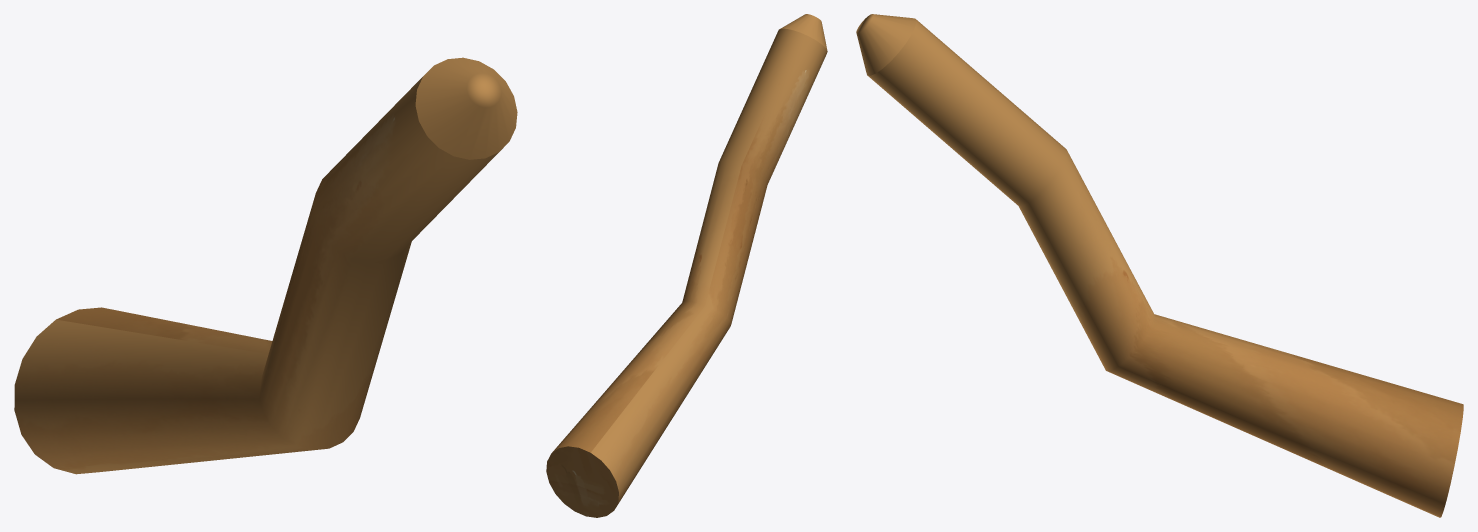
Rendered from Branch2.fbx.
3 views of the same model, side by side, from view 1: azimuth 30°, elevation 25°; view 2: azimuth 150°, elevation 25°; view 3: azimuth 270°, elevation 25° (orthographic). The views are drawn at different scales.
Parts seen in each view (by area): view 1: pCylinder5; view 2: pCylinder5; view 3: pCylinder5.
Boxes of the visible parts, left/top/right/bottom form: pCylinder5: left=14, top=57, right=517, bottom=474; pCylinder5: left=546, top=14, right=827, bottom=517; pCylinder5: left=856, top=14, right=1463, bottom=517.
Bounding box in the file's own units: 0.6742 × 3.01 × 3.41.
